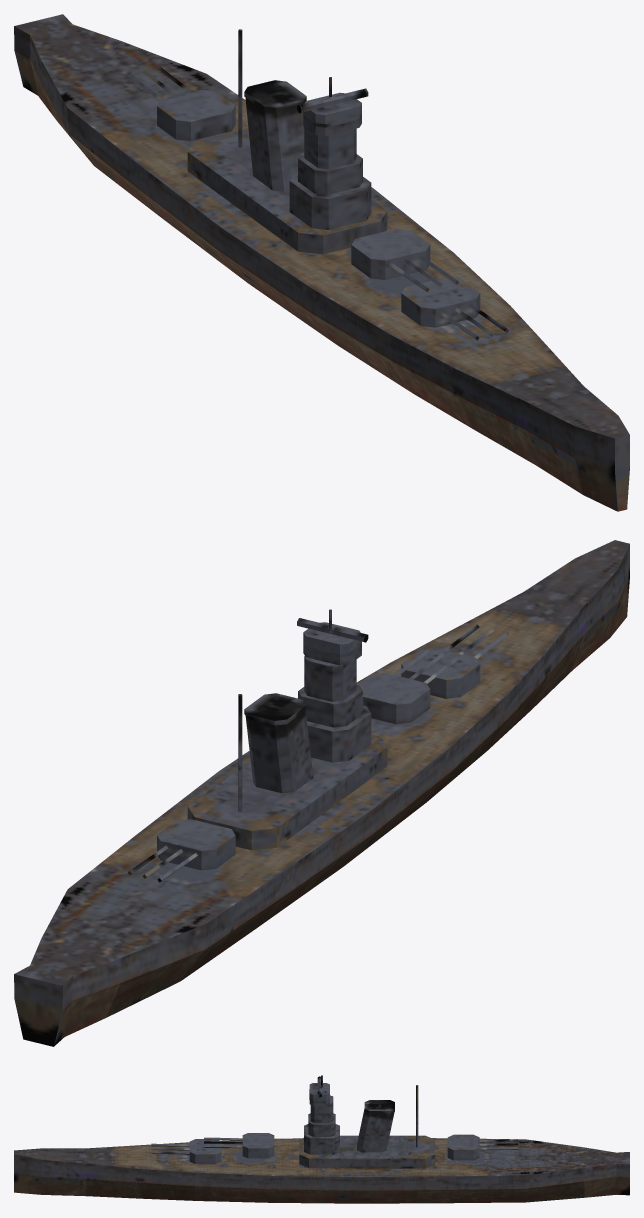
Rendered from simple-far.glb.
The picture shows the model from 3 angles, top to bottom: view 1: azimuth 30°, elevation 25°; view 2: azimuth 150°, elevation 25°; view 3: azimuth 270°, elevation 25°; orthographic projection. The views are drawn at different scales.
Visible parts, largest first — view 1: New deck outline.001, New hull sections.001, Superstructure base.001, Funnel.001, Main turret 3.001, Main turret 2.001, Bridge lower.001, Main turret 1.001, Bridge middle.001, Bridge tower.001, Bridge top.001, Funnel cap.001; view 2: New deck outline.001, New hull sections.001, Superstructure base.001, Funnel.001, Main turret 3.001, Main turret 2.001, Main turret 1.001, Bridge lower.001, Bridge tower.001, Bridge middle.001, Bridge top.001, Funnel cap.001; view 3: New hull sections.001, New deck outline.001, Superstructure base.001, Funnel.001, Main turret 3.001, Main turret 2.001, Bridge lower.001, Main turret 1.001, Bridge tower.001, Bridge middle.001, Funnel cap.001, Bridge top.001.
Part boxes in pixels (box(x1,y1,x2,y2)): New deck outline.001: box(14, 14, 629, 438); New hull sections.001: box(14, 26, 629, 511); Superstructure base.001: box(187, 128, 387, 254); Funnel.001: box(245, 97, 304, 191); Main turret 3.001: box(157, 90, 235, 141); Main turret 2.001: box(351, 228, 430, 279); Bridge lower.001: box(289, 173, 371, 229); Main turret 1.001: box(401, 277, 480, 327); Bridge middle.001: box(298, 152, 362, 194); Bridge tower.001: box(304, 127, 356, 169); Bridge top.001: box(303, 92, 361, 135); Funnel cap.001: box(244, 80, 306, 112); New deck outline.001: box(14, 540, 629, 985); New hull sections.001: box(14, 544, 629, 1046); Superstructure base.001: box(187, 734, 387, 850); Funnel.001: box(245, 710, 313, 793); Main turret 3.001: box(157, 819, 235, 870); Main turret 2.001: box(357, 673, 430, 724); Main turret 1.001: box(401, 648, 480, 698); Bridge lower.001: box(307, 705, 371, 762); Bridge tower.001: box(304, 656, 356, 701); Bridge middle.001: box(298, 685, 362, 727); Bridge top.001: box(303, 622, 361, 665); Funnel cap.001: box(244, 693, 306, 725); New hull sections.001: box(14, 1154, 629, 1203); New deck outline.001: box(14, 1138, 629, 1177); Superstructure base.001: box(299, 1135, 435, 1168); Funnel.001: box(357, 1108, 394, 1152); Main turret 3.001: box(447, 1134, 479, 1160); Main turret 2.001: box(242, 1133, 274, 1158); Bridge lower.001: box(304, 1124, 339, 1154); Main turret 1.001: box(189, 1139, 221, 1164); Bridge tower.001: box(310, 1095, 333, 1123); Bridge middle.001: box(308, 1113, 335, 1136); Funnel cap.001: box(364, 1100, 394, 1113); Bridge top.001: box(309, 1083, 329, 1105).
Bounding box in the file's own units: 20.78 × 28.2 × 136.
1 material, 1 textured.
